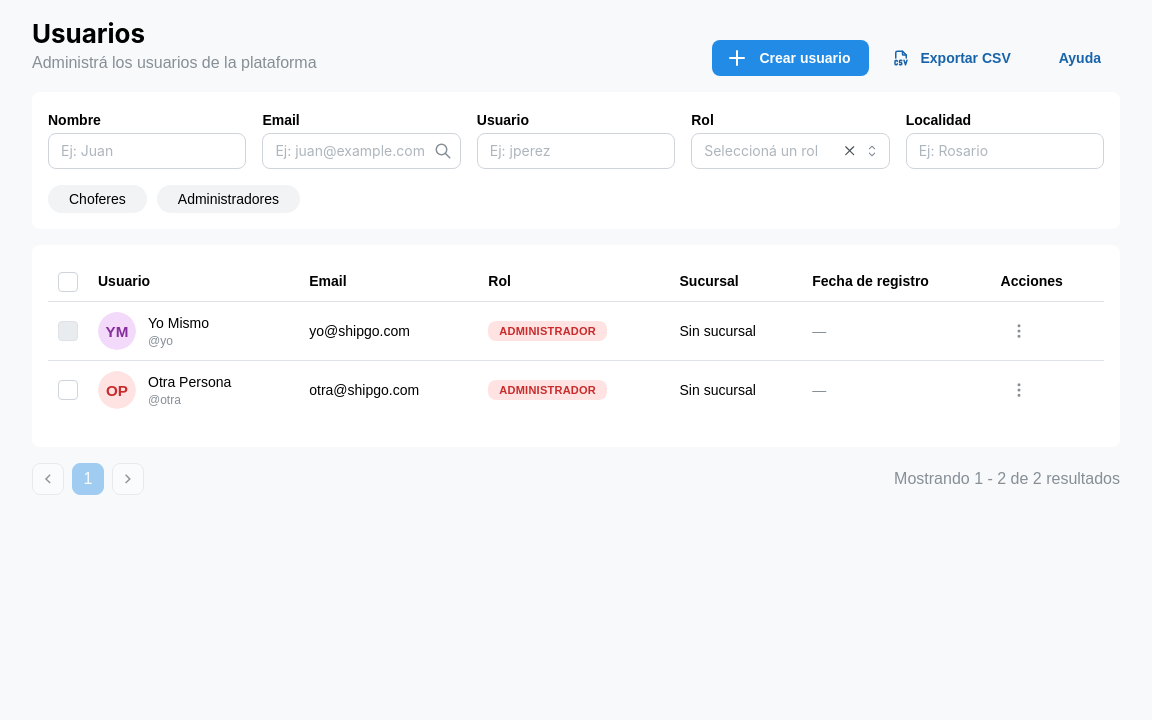
Test: ListaUsuarios — la selección masiva nunca incluye al propio usuario (SHG-FE-095) › "Seleccionar todos" tilda a los demás pero nunca a la propia fila (disabled)
The width and height of the screenshot is (1152, 720).
Expected: the text "Otra Persona" is shown, [148, 372, 231, 392]
Expected: the checkbox named "No podés seleccionar tu propio usuario" is disabled, [58, 321, 78, 341]
Click the checkbox named "Seleccionar todos los usuarios".
click(68, 282)  # box [58, 272, 78, 292]
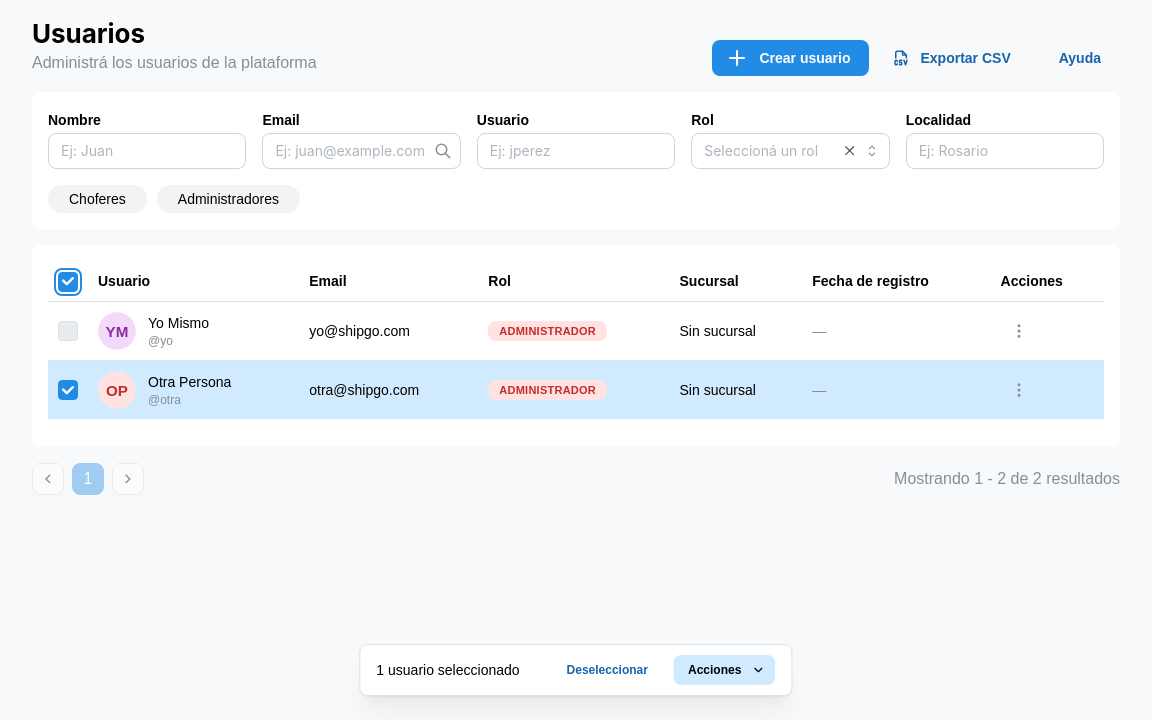
Expected: the checkbox named "No podés seleccionar tu propio usuario" is not checked, [58, 321, 78, 341]
Expected: the text "1 usuario seleccionado" is shown, [376, 660, 520, 680]
Expected: the checkbox named "Seleccionar usuario otra" is checked, [58, 380, 78, 400]
